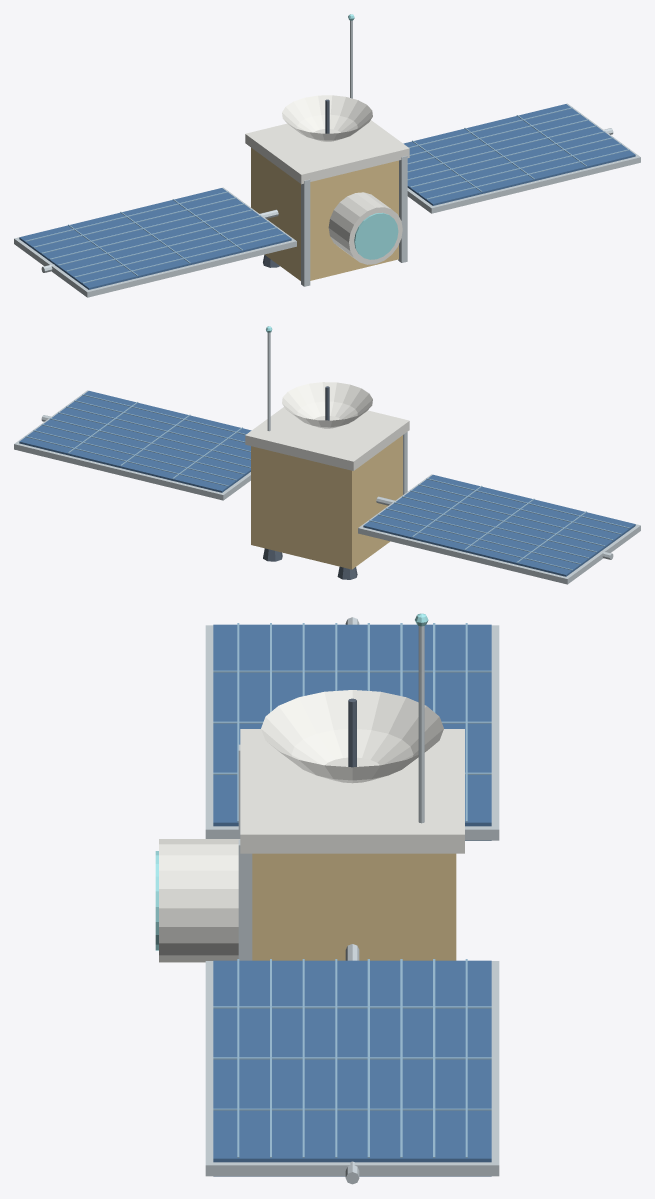
Rendered from 02_ResearchSatellite.glb.
3 renders of one model, top to bottom at view 1: azimuth 30°, elevation 25°; view 2: azimuth 150°, elevation 25°; view 3: azimuth 270°, elevation 25°, orthographic. The views are drawn at different scales.
Parts seen in each view (by area): view 1: Left_SolarArray_cells, Right_SolarArray_cells, Avionics, Top_thermal, High_gain_dish, Left_SolarArray_frame, Optical_telescope, Right_SolarArray_frame, Optical_lens, Corner_rail__0_65, Corner_rail_0_65; view 2: Avionics, Left_SolarArray_cells, Right_SolarArray_cells, Top_thermal, High_gain_dish, Left_SolarArray_frame, Right_SolarArray_frame, Antenna; view 3: Right_SolarArray_cells, Left_SolarArray_cells, Avionics, Top_thermal, High_gain_dish, Optical_telescope, Right_SolarArray_frame, Left_SolarArray_frame, Corner_rail_0_65, Antenna, Right_SolarArray_bus_1, Right_SolarArray_bus_2 (+1 smaller).
Boxes of the visible parts, left/top/right/bottom form: Left_SolarArray_cells: left=19, top=188, right=291, bottom=289; Right_SolarArray_cells: left=403, top=104, right=635, bottom=205; Avionics: left=251, top=147, right=398, bottom=280; Top_thermal: left=245, top=120, right=409, bottom=184; High_gain_dish: left=282, top=95, right=372, bottom=141; Left_SolarArray_frame: left=14, top=187, right=296, bottom=297; Optical_telescope: left=328, top=192, right=402, bottom=264; Right_SolarArray_frame: left=407, top=103, right=640, bottom=213; Optical_lens: left=354, top=212, right=398, bottom=259; Corner_rail__0_65: left=301, top=179, right=310, bottom=286; Corner_rail_0_65: left=398, top=156, right=407, bottom=262; Avionics: left=251, top=435, right=402, bottom=569; Left_SolarArray_cells: left=363, top=474, right=635, bottom=576; Right_SolarArray_cells: left=19, top=391, right=251, bottom=492; Top_thermal: left=245, top=407, right=409, bottom=470; High_gain_dish: left=282, top=382, right=372, bottom=428; Left_SolarArray_frame: left=358, top=474, right=640, bottom=584; Right_SolarArray_frame: left=14, top=390, right=250, bottom=500; Antenna: left=267, top=332, right=270, bottom=431; Right_SolarArray_cells: left=213, top=960, right=491, bottom=1162; Left_SolarArray_cells: left=213, top=624, right=491, bottom=826; Avionics: left=252, top=853, right=456, bottom=960; Top_thermal: left=240, top=729, right=464, bottom=853; High_gain_dish: left=261, top=690, right=443, bottom=783; Optical_telescope: left=159, top=839, right=240, bottom=962; Right_SolarArray_frame: left=205, top=961, right=499, bottom=1176; Left_SolarArray_frame: left=205, top=625, right=499, bottom=840; Corner_rail_0_65: left=238, top=839, right=252, bottom=960; Antenna: left=418, top=626, right=424, bottom=823; Right_SolarArray_bus_1: left=213, top=1006, right=491, bottom=1008; Right_SolarArray_bus_2: left=213, top=1057, right=491, bottom=1059.
Size of the model in its own units: 7.6 by 2.94 by 1.99.
